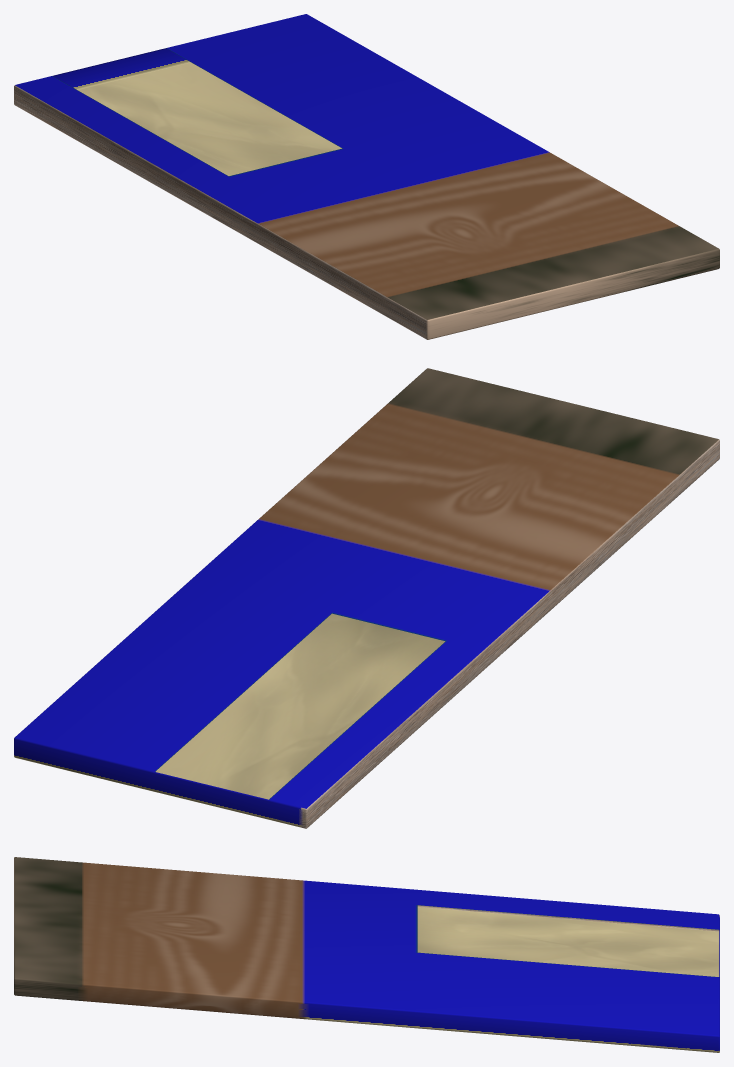
File: way.fbx
The picture shows the model from 3 angles, top to bottom: view 1: azimuth 30°, elevation 25°; view 2: azimuth 150°, elevation 25°; view 3: azimuth 270°, elevation 25°; orthographic projection. The views are drawn at different scales.
Parts seen in each view (by area): view 1: flor.001; view 2: flor.001; view 3: flor.001.
Boxes of the visible parts, x1,y1,x2,y2 form: flor.001: (14, 14, 719, 339); flor.001: (14, 368, 719, 828); flor.001: (14, 857, 719, 1052).
Size of the model in its own units: 300 by 85.61 by 733.
